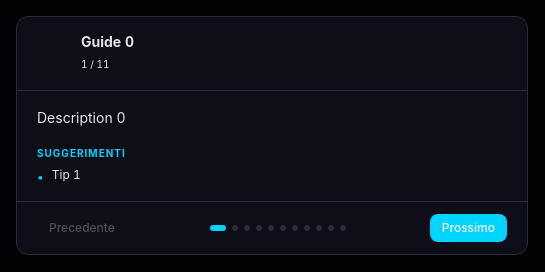
Test case: GuideTour › navigates via indicator dots
Step 1. Click the button named "Go to guide" → coordinates (283, 228), box [280, 225, 286, 231]
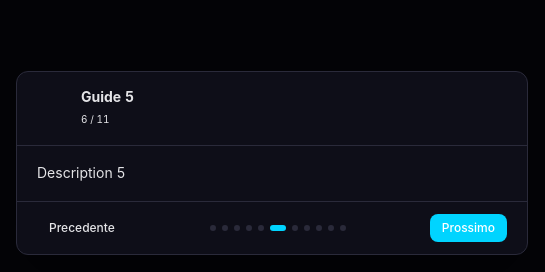
Expected: the heading "Guide 5" is shown, [81, 88, 134, 105]
